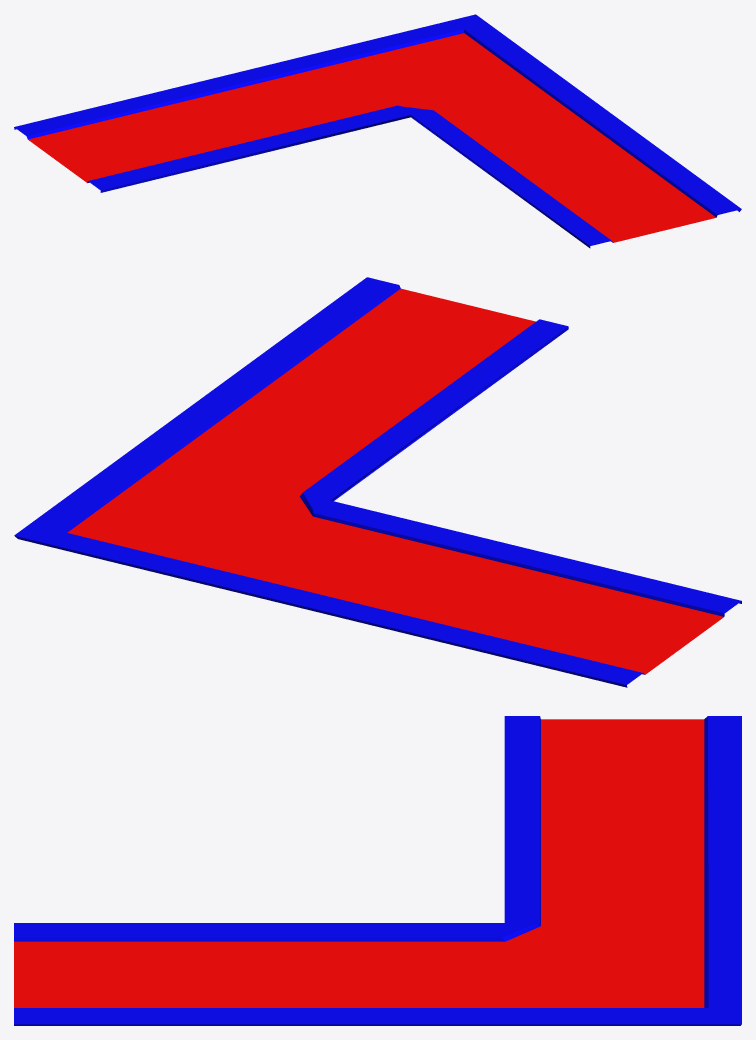
Rendered from SM_RoadCorner.fbx.
3 views of the same model, one above another, from view 1: azimuth 30°, elevation 25°; view 2: azimuth 150°, elevation 25°; view 3: azimuth 270°, elevation 25° (orthographic). The views are drawn at different scales.
Visible parts, largest first — view 1: SM_Corner.004; view 2: SM_Corner.004; view 3: SM_Corner.004.
Boxes of the visible parts, left/top/right/bottom form: SM_Corner.004: left=14, top=14, right=741, bottom=248; SM_Corner.004: left=14, top=277, right=741, bottom=687; SM_Corner.004: left=14, top=716, right=741, bottom=1025.
Size of the model in its own units: 40.21 by 0.2019 by 40.13.
